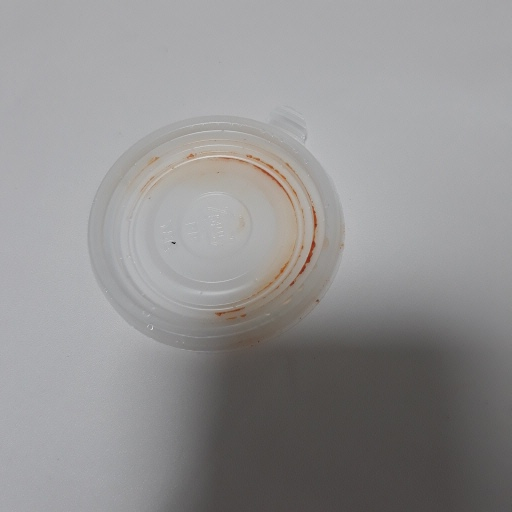Plastic_5: (83, 109, 349, 346)
